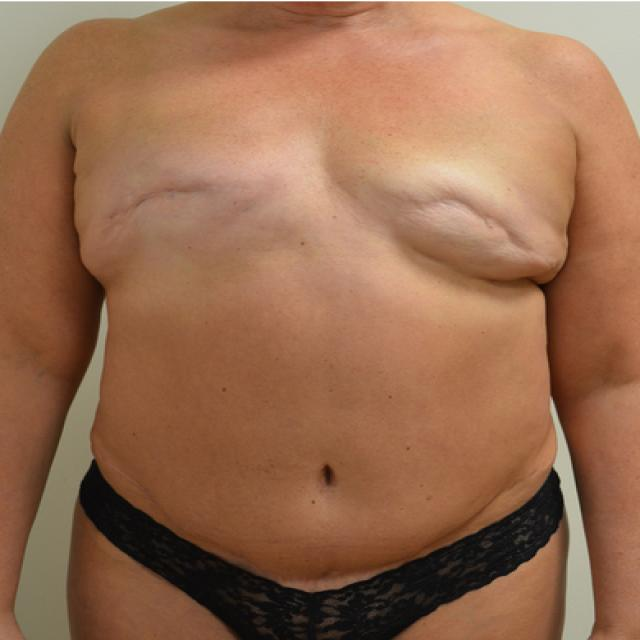Seno herido: (66, 120, 313, 309), (328, 120, 575, 308)
